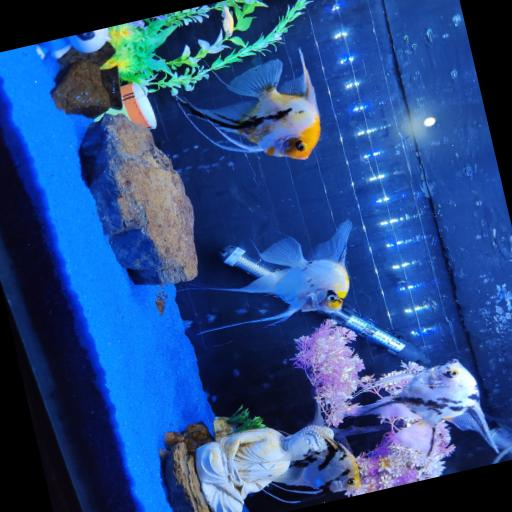Fish: (198, 221, 350, 334), (180, 49, 319, 159), (347, 360, 497, 455), (273, 437, 360, 493), (222, 5, 233, 37)
